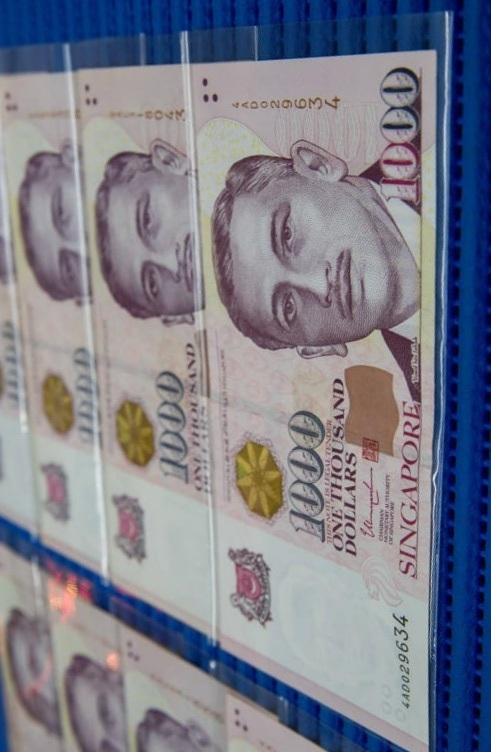1000SingaporeDollar: (198, 70, 432, 718)
